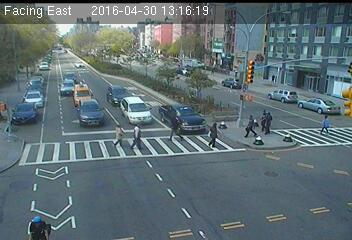neg: (51, 5, 73, 34), (320, 41, 341, 70), (14, 114, 34, 140), (173, 12, 192, 36), (289, 79, 302, 97), (11, 85, 24, 102), (36, 83, 48, 100), (22, 195, 34, 212), (314, 84, 326, 100), (255, 14, 266, 29), (206, 85, 215, 97), (5, 76, 14, 88), (227, 80, 235, 90)
